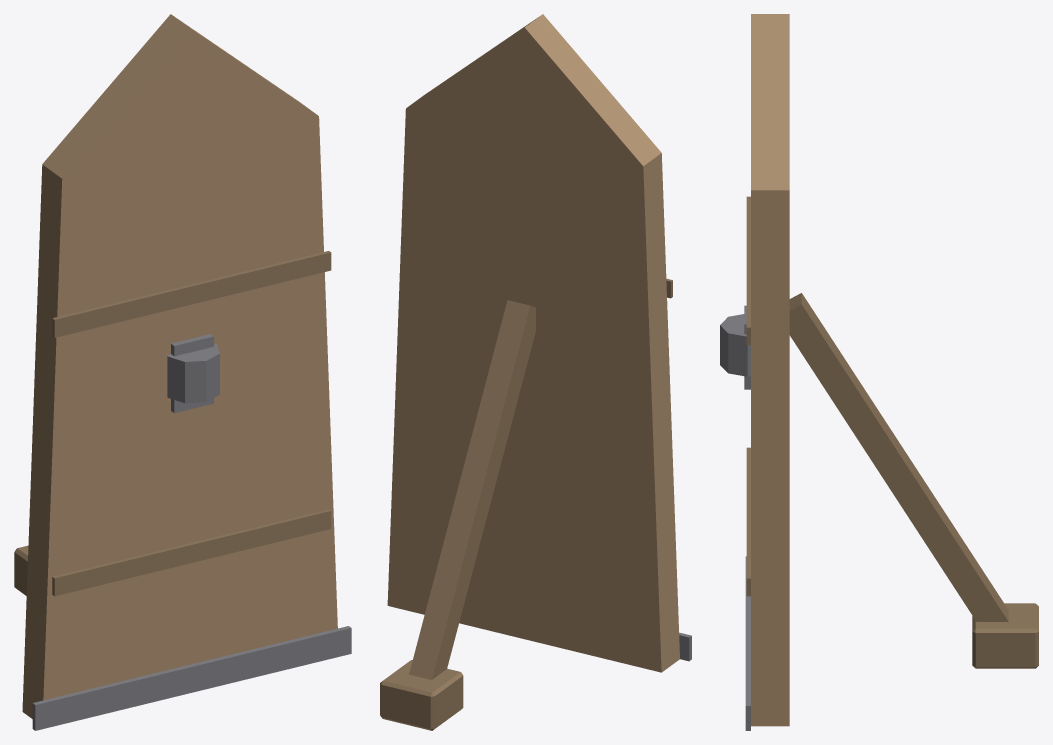
The model's file is prop-pavise.fbx.
3 renders of one model, left to right at view 1: azimuth 30°, elevation 25°; view 2: azimuth 150°, elevation 25°; view 3: azimuth 270°, elevation 25°, orthographic. The views are drawn at different scales.
Visible parts, largest first — view 1: prop-pavise; view 2: prop-pavise; view 3: prop-pavise.
Boxes of the visible parts, x1=… form: prop-pavise: x1=14, y1=14, x2=351, y2=730; prop-pavise: x1=380, y1=14, x2=691, y2=730; prop-pavise: x1=720, y1=14, x2=1038, y2=730.
Size of the model in its own units: 0.64 by 1.28 by 0.576.
